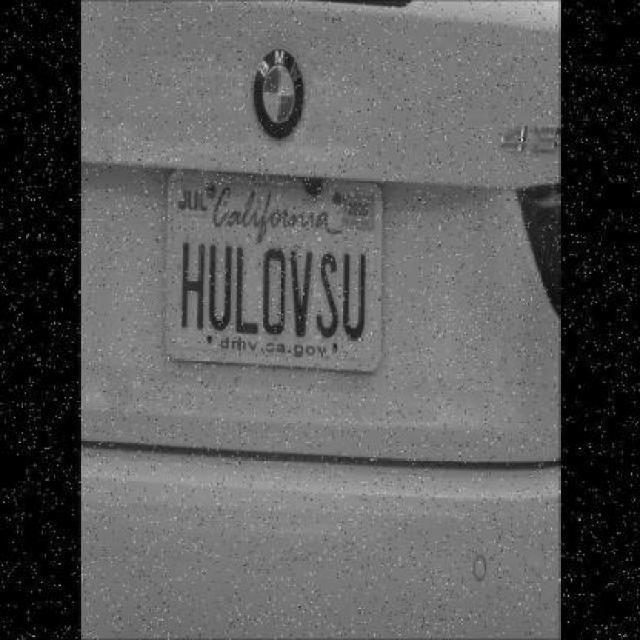licenseplate: (165, 173, 380, 370)
